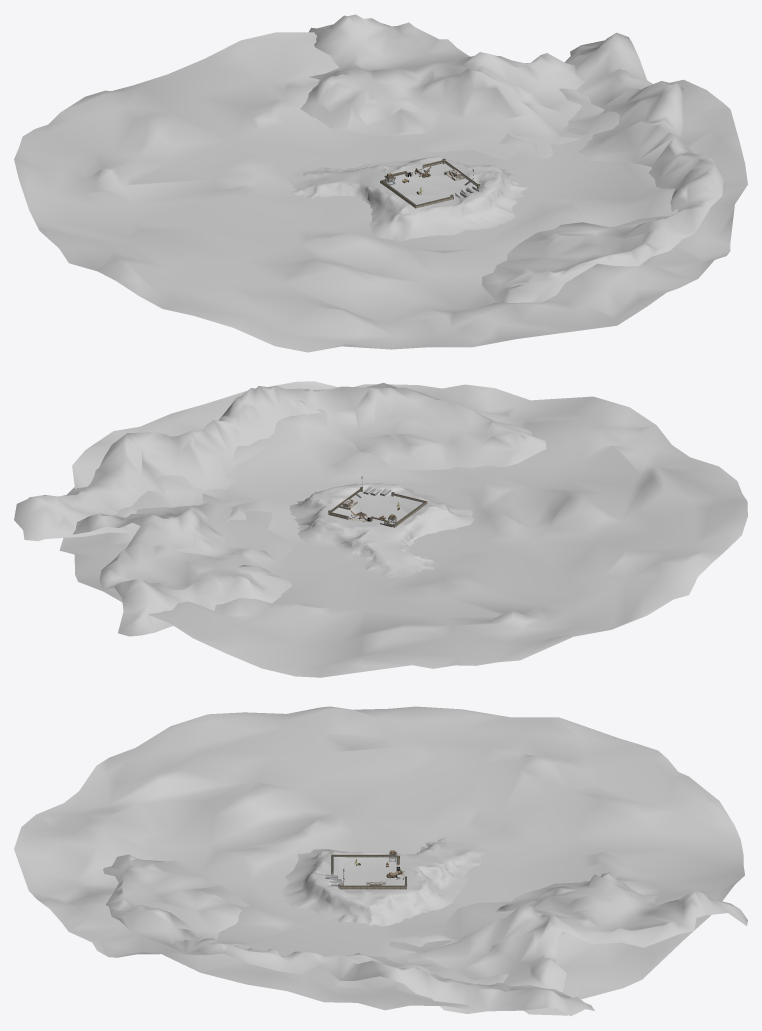
File: Map_BRC01.fbx
3 renders of one model, top to bottom at view 1: azimuth 30°, elevation 25°; view 2: azimuth 150°, elevation 25°; view 3: azimuth 270°, elevation 25°, orthographic. The views are drawn at different scales.
Visible parts, largest first — view 1: Terrain02_BR04, PC_nui2_BRP01, PC_nui1_BRP01, Terrain_Top_BRP01; view 2: Terrain02_BR04, PC_nui1_BRP01, PC_nui2_BRP01, Terrain_Top_BRP01; view 3: Terrain02_BR04, PC_nui2_BRP01, PC_nui1_BRP01, Terrain_Top_BRP01.
Part boxes in pixels (x1=…): Terrain02_BR04: x1=14, y1=32, x2=747, y2=352; PC_nui2_BRP01: x1=300, y1=14, x2=584, y2=159; PC_nui1_BRP01: x1=482, y1=32, x2=723, y2=302; Terrain_Top_BRP01: x1=287, y1=156, x2=527, y2=241; Terrain02_BR04: x1=59, y1=381, x2=747, y2=677; PC_nui1_BRP01: x1=14, y1=383, x2=546, y2=541; PC_nui2_BRP01: x1=73, y1=493, x2=291, y2=636; Terrain_Top_BRP01: x1=289, y1=483, x2=474, y2=577; Terrain02_BR04: x1=14, y1=706, x2=744, y2=1015; PC_nui2_BRP01: x1=390, y1=872, x2=747, y2=992; PC_nui1_BRP01: x1=103, y1=854, x2=594, y2=1016; Terrain_Top_BRP01: x1=283, y1=837, x2=486, y2=926.
Bounding box in the file's own units: 73158 × 6242 × 74238.
